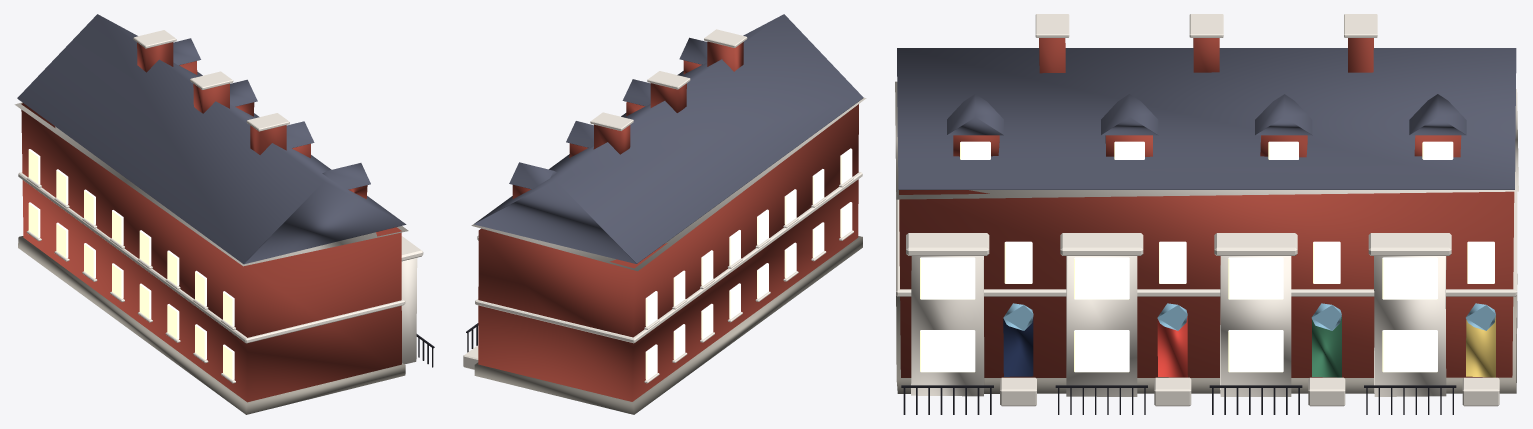
File: townhouse_row.glb
The picture shows the model from 3 angles, left to right: view 1: azimuth 30°, elevation 25°; view 2: azimuth 150°, elevation 25°; view 3: azimuth 270°, elevation 25°; orthographic projection. The views are drawn at different scales.
Visible parts, largest first — view 1: townhouse_row; view 2: townhouse_row; view 3: townhouse_row.
Boxes of the visible parts, x1,y1,x2,y2 form: townhouse_row: (14, 14, 434, 414); townhouse_row: (463, 14, 866, 414); townhouse_row: (895, 14, 1518, 414).
Size of the model in its own units: 9.88 by 11.37 by 20.24.
1 material, 1 textured.
